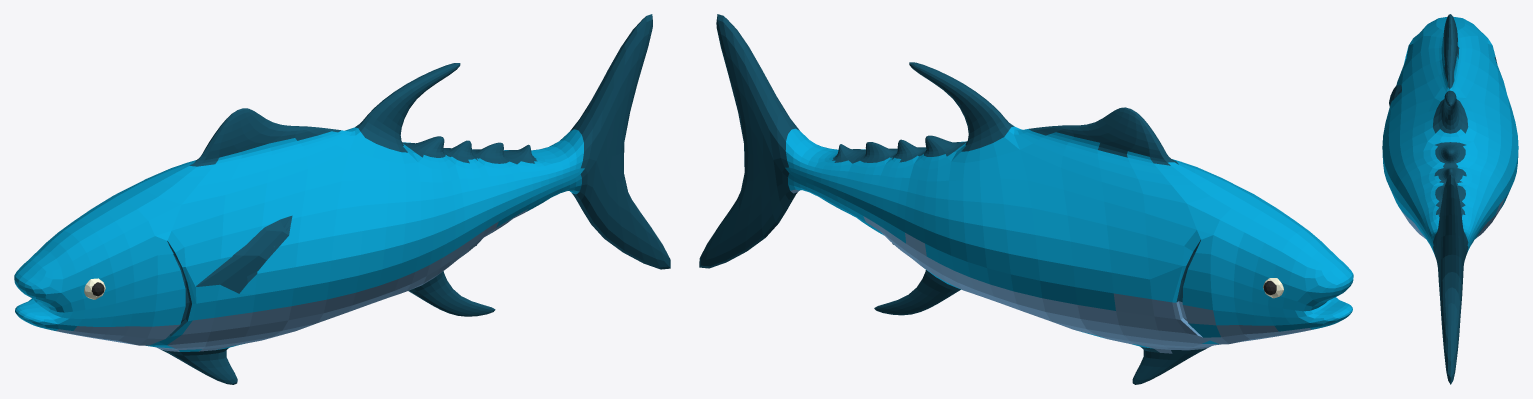
Rendered from tuna01.fbx.
The picture shows the model from 3 angles, left to right: view 1: azimuth 30°, elevation 25°; view 2: azimuth 150°, elevation 25°; view 3: azimuth 270°, elevation 25°; orthographic projection. The views are drawn at different scales.
Visible parts, largest first — view 1: Cube; view 2: Cube; view 3: Cube.
Part boxes in pixels (x1,y1,x2,y2): Cube: (14,14,670,384); Cube: (699,14,1353,384); Cube: (1382,14,1518,384).
Bounding box in the file's own units: 197 × 76.76 × 45.73.
